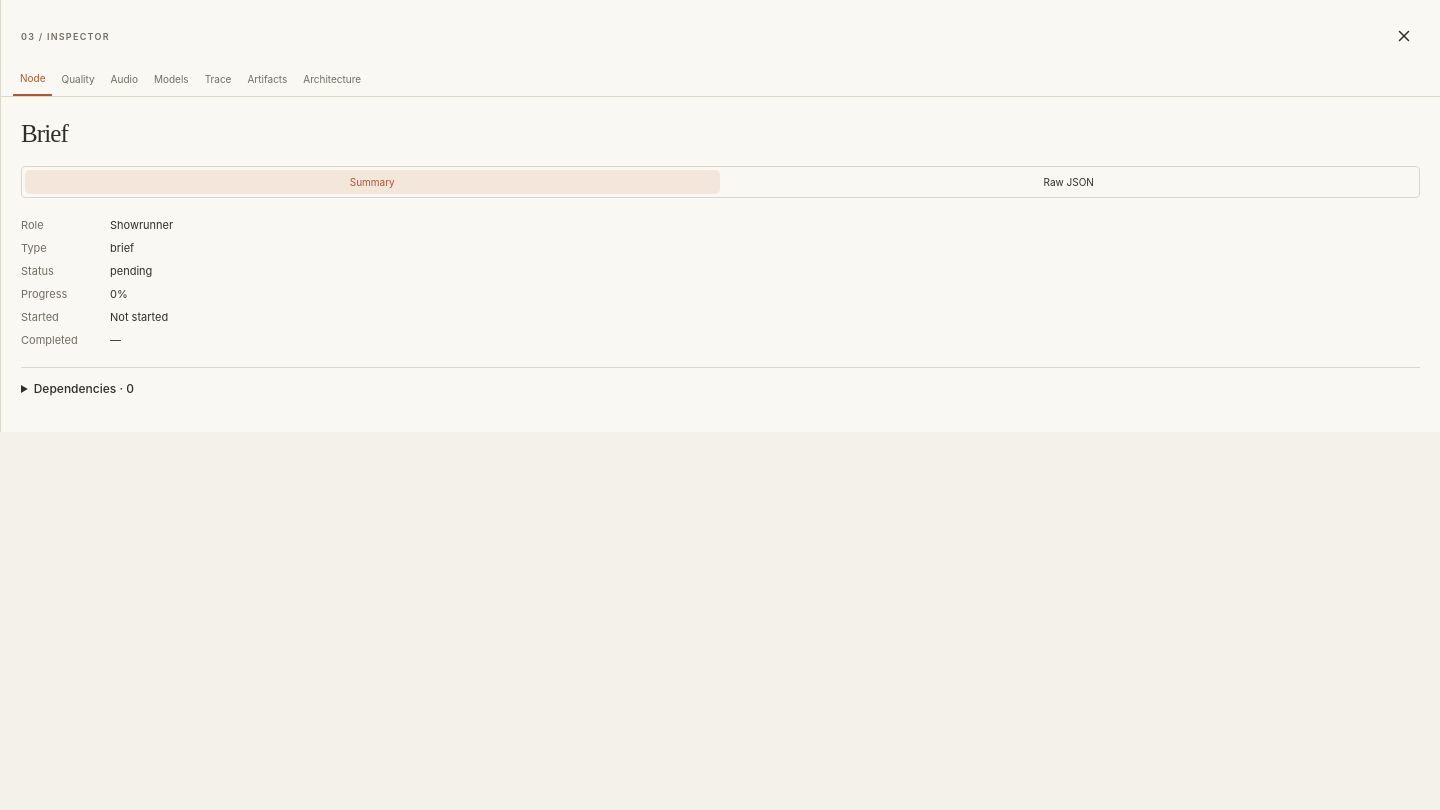
Test case: inspector shows typed node details and Raw JSON
The image size is (1440, 810).
Check: the heading "Brief" is shown, box x1=21 y1=120 x2=68 y2=147
Check: the text "Showrunner" is shown, box x1=110 y1=218 x2=173 y2=232
Click the button "Raw JSON" at x=1069, y=182, box x1=722 y1=170 x2=1416 y2=194
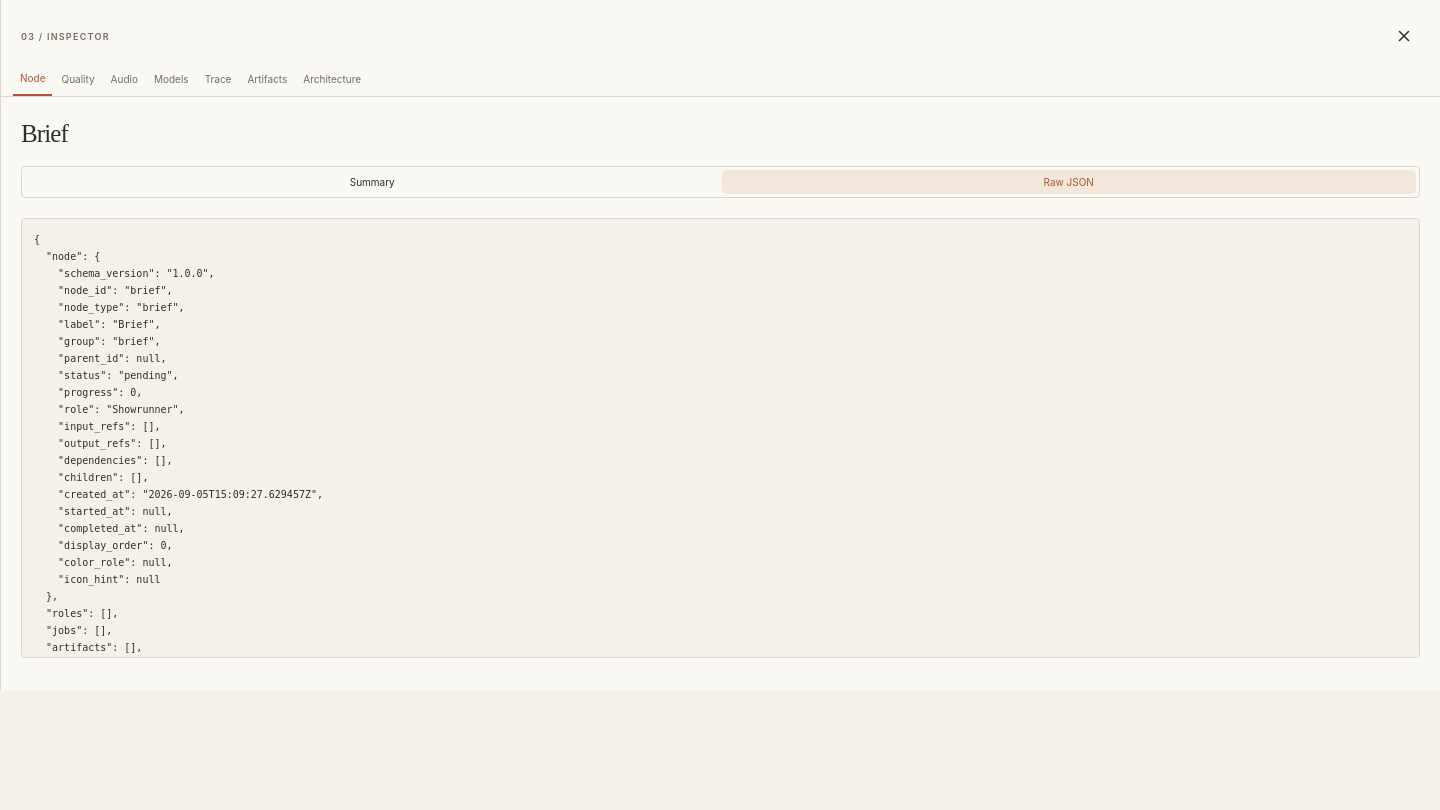
Check: the text "\"node_id\": \"brief\"" is shown, box x1=34 y1=234 x2=323 y2=687
